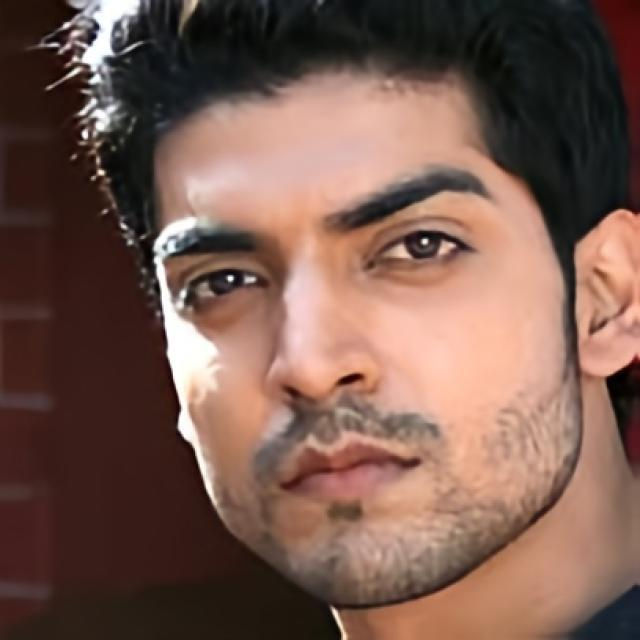anger: (152, 70, 570, 600)
